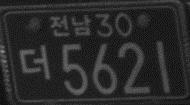0: (115, 12, 133, 37)
1: (154, 39, 171, 94)
2: (117, 41, 151, 94)
3: (93, 12, 113, 39)
5: (60, 43, 87, 95)
6: (91, 42, 116, 94)
더: (18, 43, 51, 80)
전남_O: (49, 13, 92, 37)
